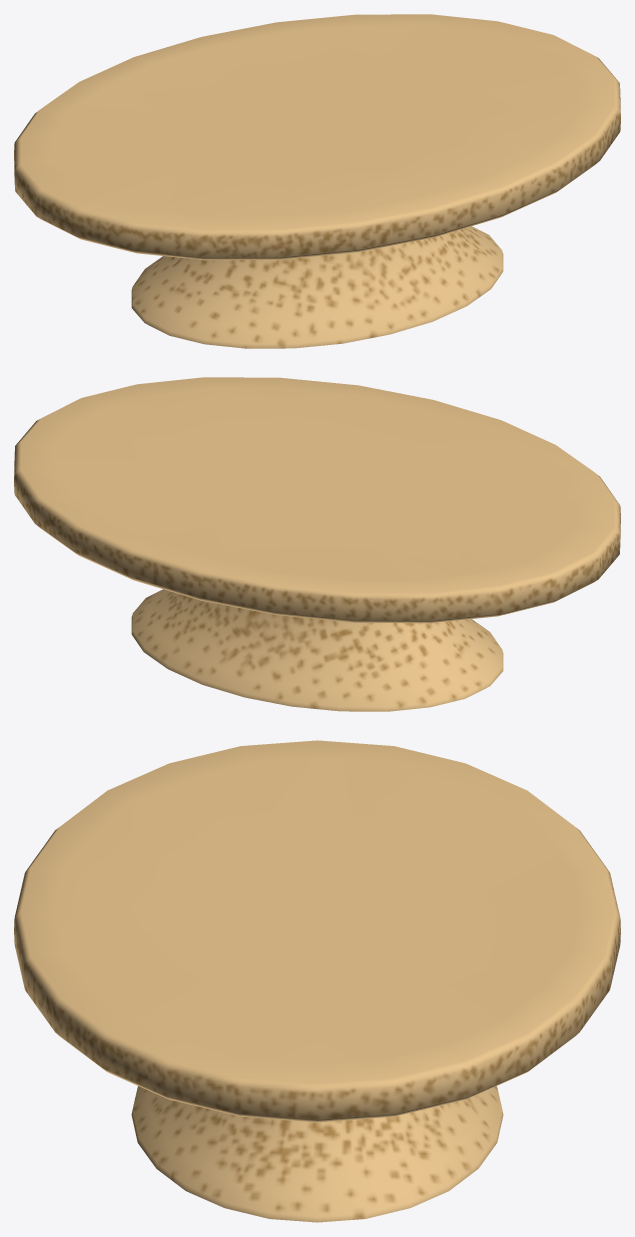
The model's file is SM_CoffeTable.fbx.
The picture shows the model from 3 angles, top to bottom: view 1: azimuth 30°, elevation 25°; view 2: azimuth 150°, elevation 25°; view 3: azimuth 270°, elevation 25°; orthographic projection. The views are drawn at different scales.
Parts seen in each view (by area): view 1: SHELF.002; view 2: SHELF.002; view 3: SHELF.002.
Boxes of the visible parts, <box> form: SHELF.002: <box>14,14,620,348</box>; SHELF.002: <box>14,377,620,711</box>; SHELF.002: <box>14,740,620,1222</box>.
Size of the model in its own units: 115 by 84.34 by 32.11.
